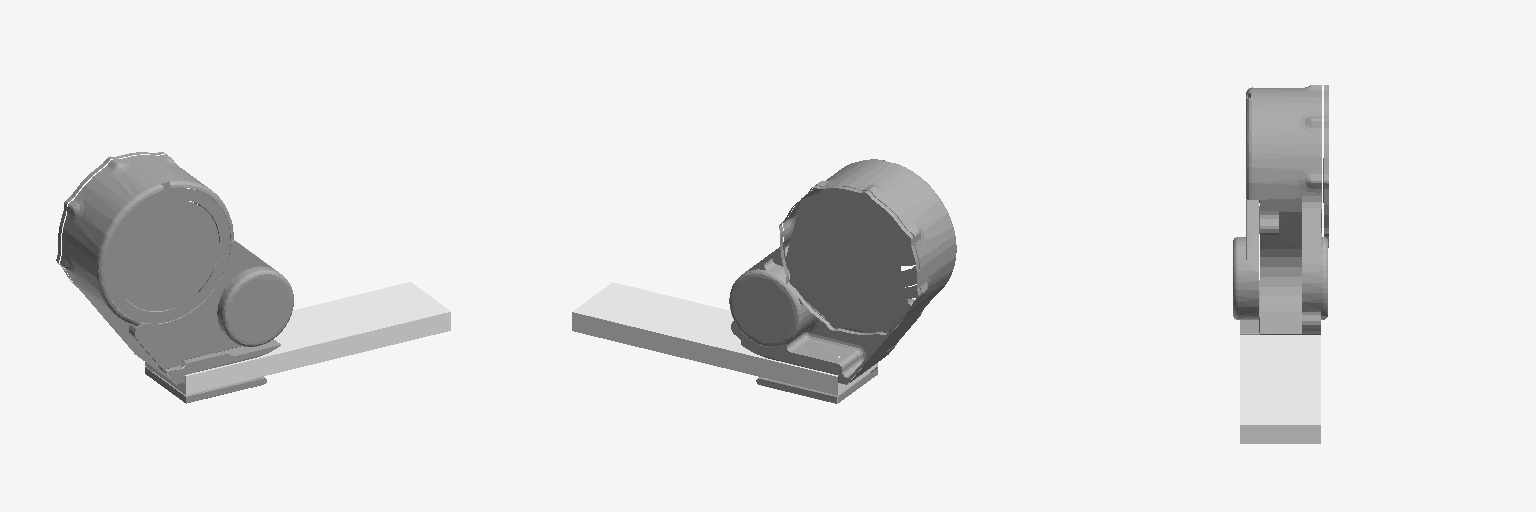
The model's file is knee-mirror.obj.
3 renders of one model, left to right at view 1: azimuth 30°, elevation 25°; view 2: azimuth 150°, elevation 25°; view 3: azimuth 270°, elevation 25°, orthographic.
Parts seen in each view (by area): view 1: __TMPOBJ_____TMPMESH__.066; view 2: __TMPOBJ_____TMPMESH__.066; view 3: __TMPOBJ_____TMPMESH__.066.
Part boxes in pixels (x1,y1,x2,y2): __TMPOBJ_____TMPMESH__.066: (56,152,450,403); __TMPOBJ_____TMPMESH__.066: (572,159,956,403); __TMPOBJ_____TMPMESH__.066: (1233,85,1328,443).
Bounding box in the file's own units: 0.2482 × 0.1506 × 0.0603.